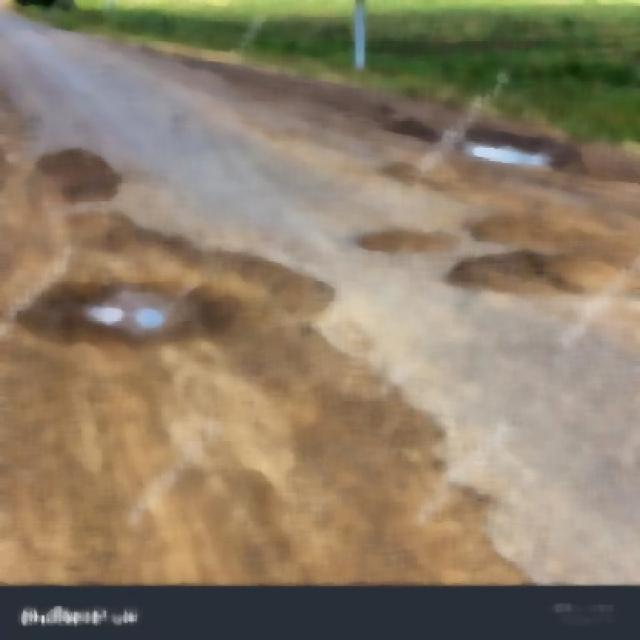Pothole: (428, 116, 584, 193), (438, 238, 594, 307), (61, 275, 216, 334)
